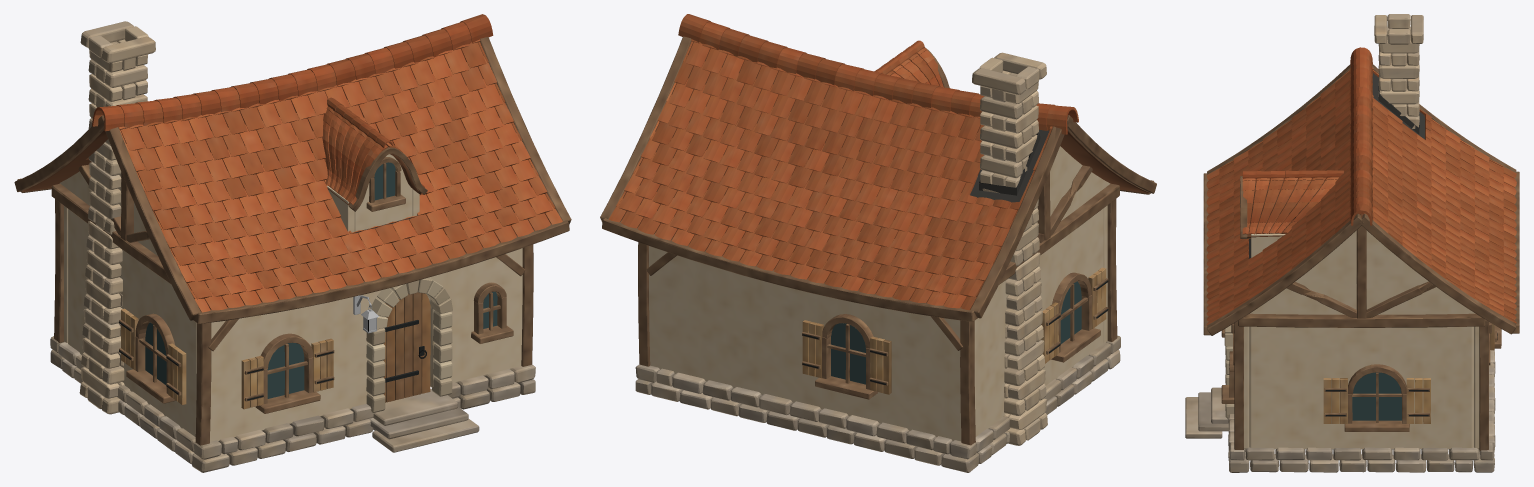
File: house_LOD1.fbx
3 views of the same model, side by side, from view 1: azimuth 30°, elevation 25°; view 2: azimuth 150°, elevation 25°; view 3: azimuth 270°, elevation 25° (orthographic). The views are drawn at different scales.
Parts seen in each view (by area): view 1: BLD_House_Cottage_A_LOD1; view 2: BLD_House_Cottage_A_LOD1; view 3: BLD_House_Cottage_A_LOD1.
Part boxes in pixels (<box>): BLD_House_Cottage_A_LOD1: <box>14,14,571,472</box>; BLD_House_Cottage_A_LOD1: <box>600,14,1156,472</box>; BLD_House_Cottage_A_LOD1: <box>1185,14,1519,472</box>.
Size of the model in its own units: 748 by 670 by 644.
